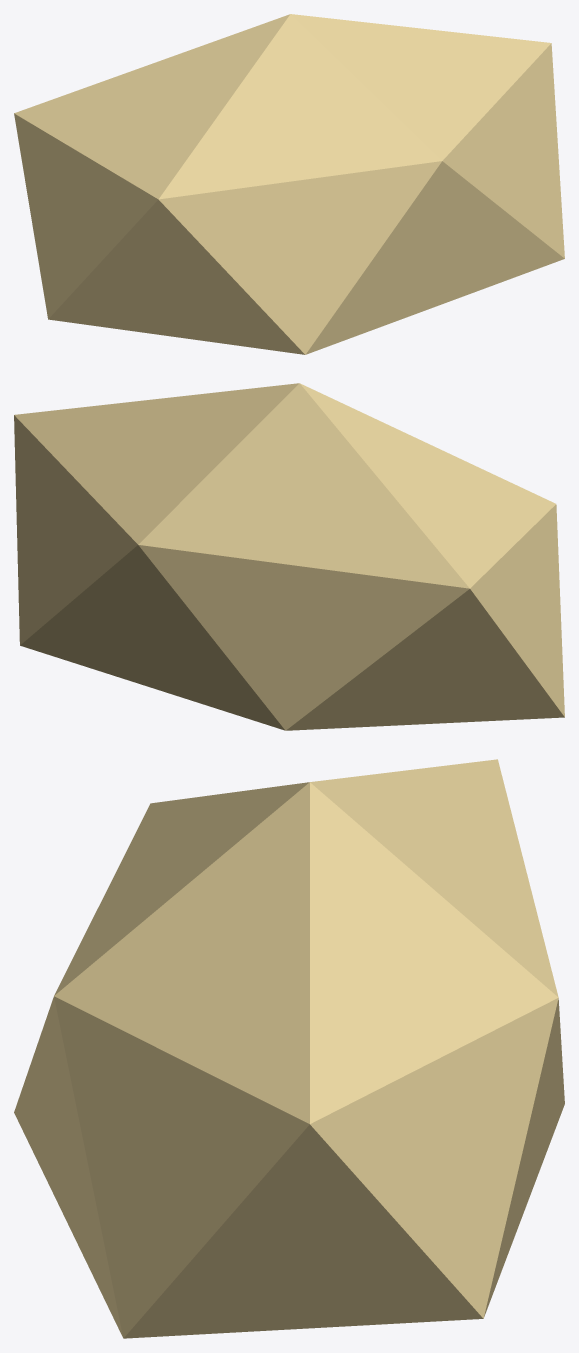
File: item_062_rye_seed_s.glb
3 renders of one model, top to bottom at view 1: azimuth 30°, elevation 25°; view 2: azimuth 150°, elevation 25°; view 3: azimuth 270°, elevation 25°, orthographic. The views are drawn at different scales.
Parts seen in each view (by area): view 1: item_062_rye_seed_s; view 2: item_062_rye_seed_s; view 3: item_062_rye_seed_s.
Part boxes in pixels (left/top/right/bottom): item_062_rye_seed_s: left=14, top=14, right=564, bottom=354; item_062_rye_seed_s: left=14, top=383, right=564, bottom=730; item_062_rye_seed_s: left=14, top=759, right=564, bottom=1338.
Bounding box in the file's own units: 0.3386 × 0.2008 × 0.2064.
